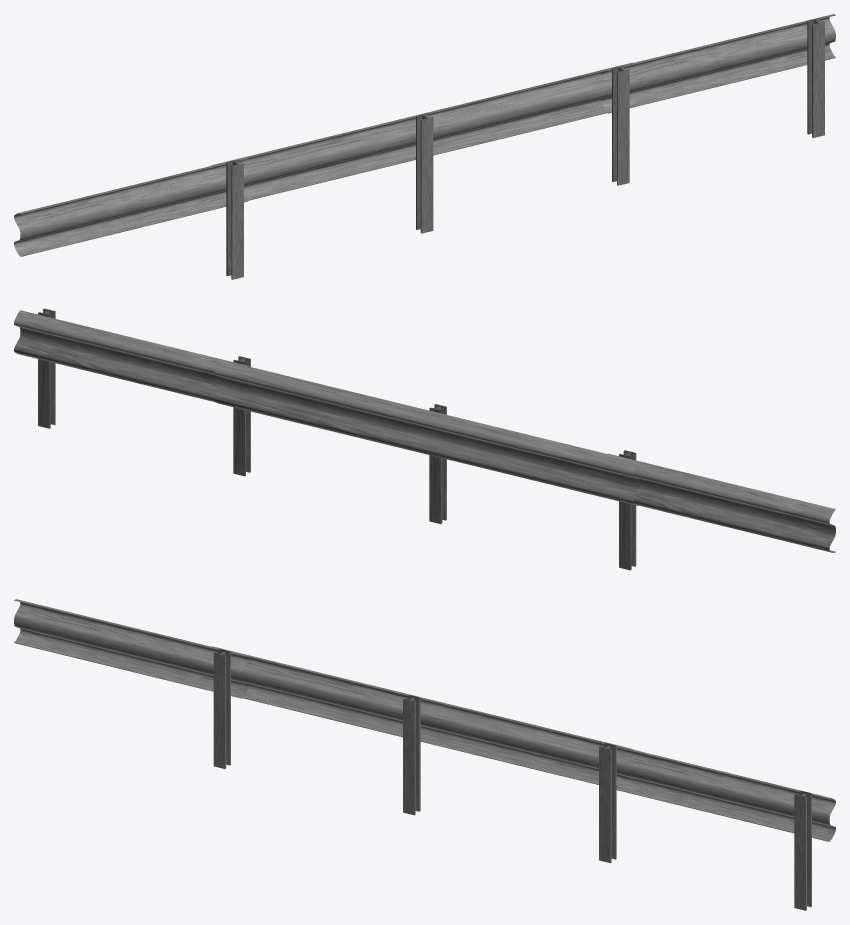
File: Guard_Rail.obj
3 views of the same model, one above another, from view 1: azimuth 30°, elevation 25°; view 2: azimuth 150°, elevation 25°; view 3: azimuth 330°, elevation 25° (orthographic).
Parts seen in each view (by area): view 1: Extrude_NURBS_2_Mesh.001, Extrude_NURBS_6_Mesh.001, Extrude_16_Mesh.001, Extrude_NURBS_4_Mesh.001, Extrude_NURBS_1_Mesh.001, Extrude_NURBS_3_Mesh.001, Extrude_NURBS_5_Mesh.001; view 2: Extrude_NURBS_2_Mesh.001, Extrude_16_Mesh.001, Extrude_NURBS_6_Mesh.001, Extrude_NURBS_3_Mesh.001, Extrude_NURBS_5_Mesh.001, Extrude_NURBS_1_Mesh.001, Extrude_NURBS_4_Mesh.001; view 3: Extrude_NURBS_2_Mesh.001, Extrude_NURBS_6_Mesh.001, Extrude_16_Mesh.001, Extrude_NURBS_3_Mesh.001, Extrude_NURBS_4_Mesh.001, Extrude_NURBS_1_Mesh.001, Extrude_NURBS_5_Mesh.001.
Part boxes in pixels (x1,y1,x2,y2): Extrude_NURBS_2_Mesh.001: (211, 62, 634, 200); Extrude_NURBS_6_Mesh.001: (14, 158, 248, 256); Extrude_16_Mesh.001: (601, 14, 835, 113); Extrude_NURBS_4_Mesh.001: (226, 159, 243, 279); Extrude_NURBS_1_Mesh.001: (612, 65, 629, 185); Extrude_NURBS_3_Mesh.001: (416, 113, 433, 233); Extrude_NURBS_5_Mesh.001: (807, 18, 824, 137); Extrude_NURBS_2_Mesh.001: (214, 359, 639, 505); Extrude_16_Mesh.001: (14, 310, 247, 401); Extrude_NURBS_6_Mesh.001: (608, 453, 835, 552); Extrude_NURBS_3_Mesh.001: (429, 404, 446, 523); Extrude_NURBS_5_Mesh.001: (38, 308, 55, 428); Extrude_NURBS_1_Mesh.001: (233, 356, 250, 476); Extrude_NURBS_4_Mesh.001: (619, 450, 636, 570); Extrude_NURBS_2_Mesh.001: (210, 646, 633, 784); Extrude_NURBS_6_Mesh.001: (14, 599, 248, 698); Extrude_16_Mesh.001: (601, 743, 835, 841); Extrude_NURBS_3_Mesh.001: (403, 695, 420, 815); Extrude_NURBS_4_Mesh.001: (213, 649, 230, 768); Extrude_NURBS_1_Mesh.001: (599, 743, 616, 863); Extrude_NURBS_5_Mesh.001: (794, 790, 811, 910).
Bounding box in the file's own units: 59.01 × 7.82 × 1.69.
